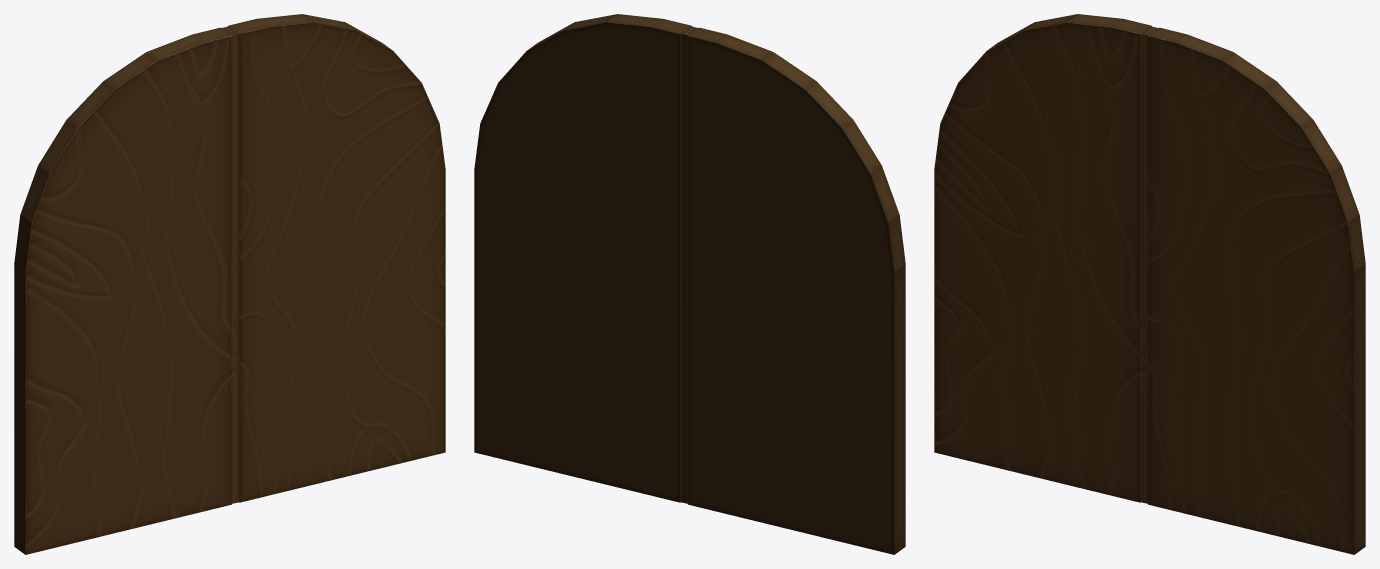
Rendered from GateCLOSED.fbx.
3 renders of one model, left to right at view 1: azimuth 30°, elevation 25°; view 2: azimuth 150°, elevation 25°; view 3: azimuth 330°, elevation 25°, orthographic.
Visible parts, largest first — view 1: Gate Closed LEft LOW, Gate Closed RIGHT LOW; view 2: Gate Closed LEft LOW, Gate Closed RIGHT LOW; view 3: Gate Closed RIGHT LOW, Gate Closed LEft LOW.
Part boxes in pixels (left/top/right/bottom): Gate Closed LEft LOW: left=14, top=27, right=234, bottom=554; Gate Closed RIGHT LOW: left=225, top=14, right=445, bottom=502; Gate Closed LEft LOW: left=685, top=27, right=905, bottom=554; Gate Closed RIGHT LOW: left=474, top=14, right=694, bottom=502; Gate Closed RIGHT LOW: left=1145, top=27, right=1365, bottom=554; Gate Closed LEft LOW: left=934, top=14, right=1154, bottom=502.
Size of the model in its own units: 423 by 451 by 19.85.
Materials: 2 (2 with a texture image).
